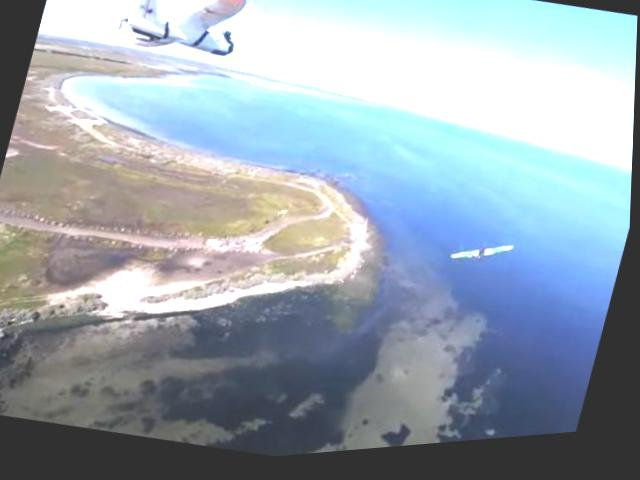uav: (106, 0, 256, 80), (451, 236, 520, 282)
